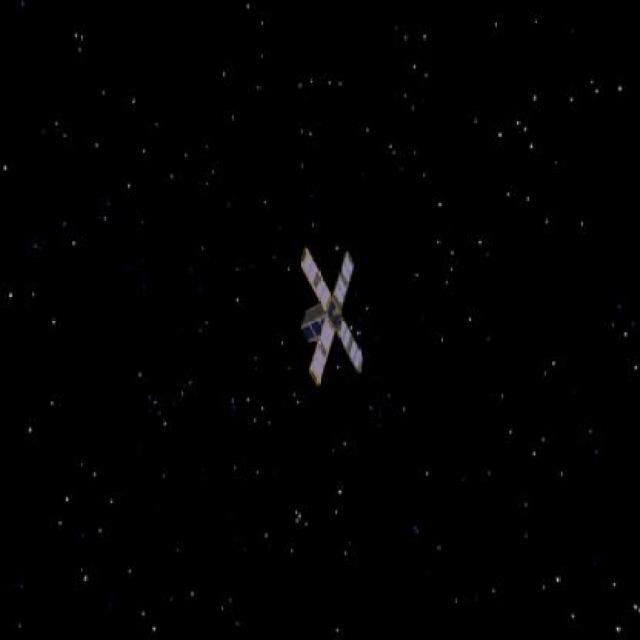satellite: (281, 250, 373, 387)
